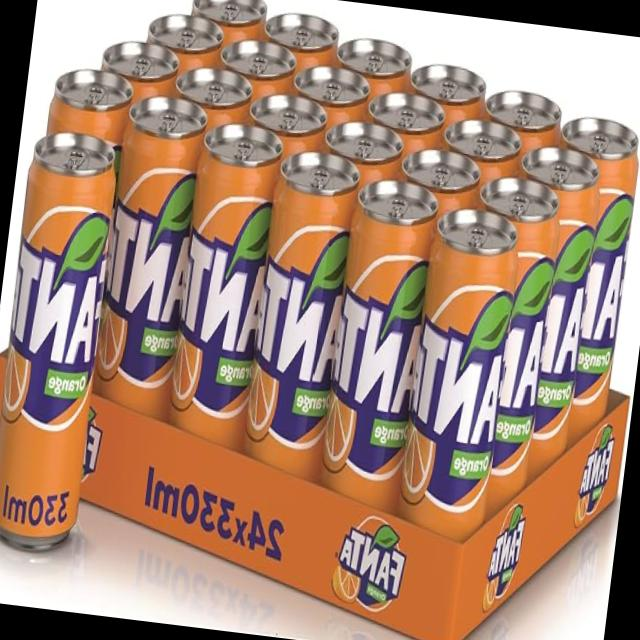fanta: (0, 134, 118, 557), (437, 174, 562, 542), (392, 207, 524, 553), (517, 115, 640, 476), (480, 140, 602, 498), (162, 120, 286, 458), (315, 181, 440, 516), (238, 146, 362, 479), (88, 94, 207, 425)
